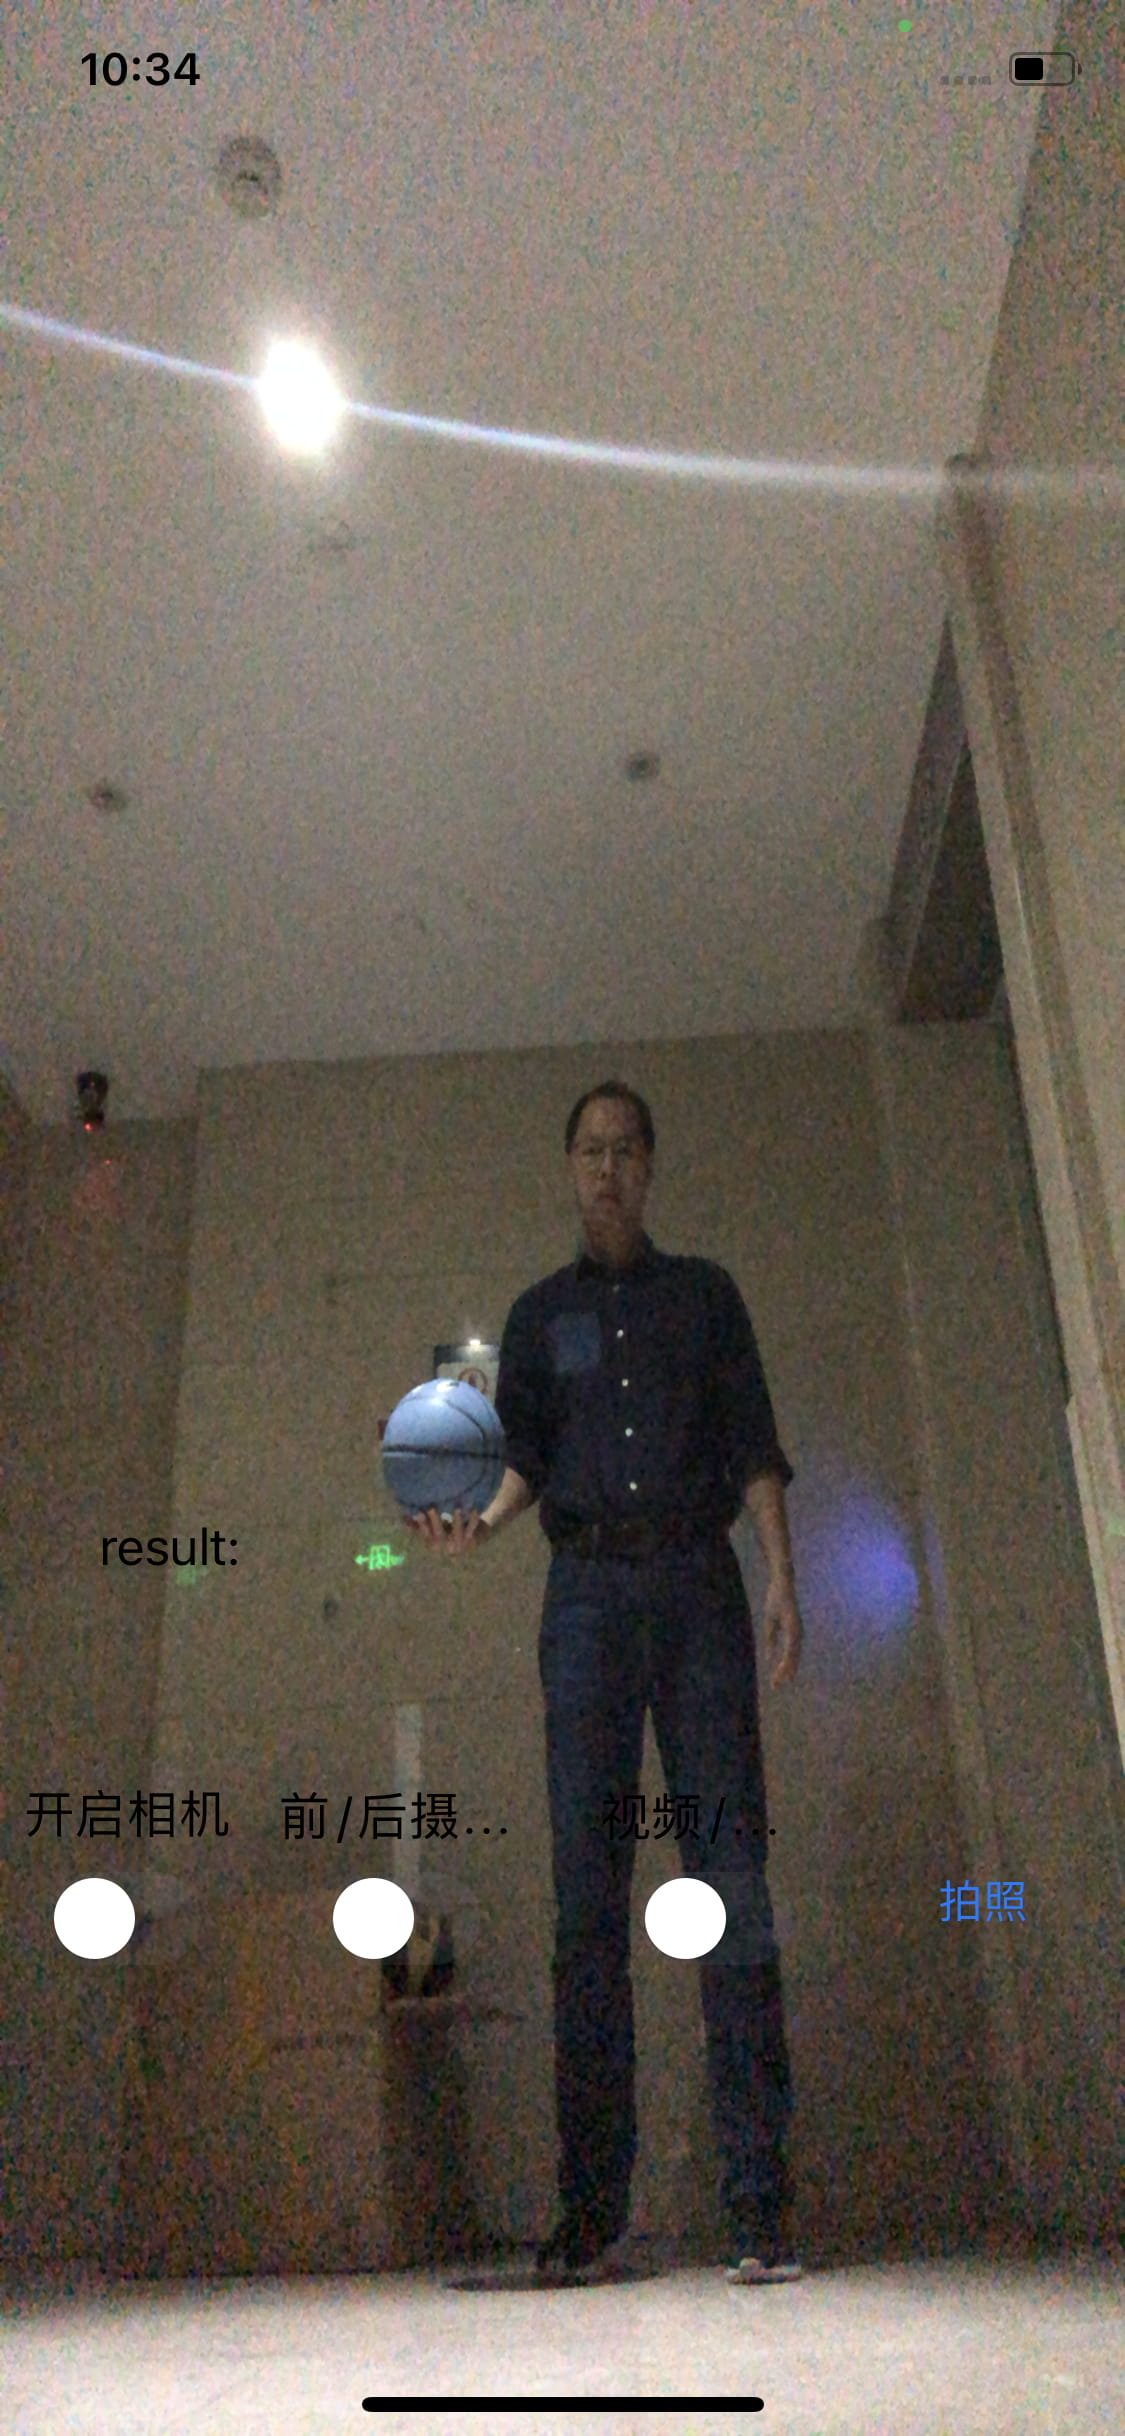ball: (385, 1378, 513, 1526)
